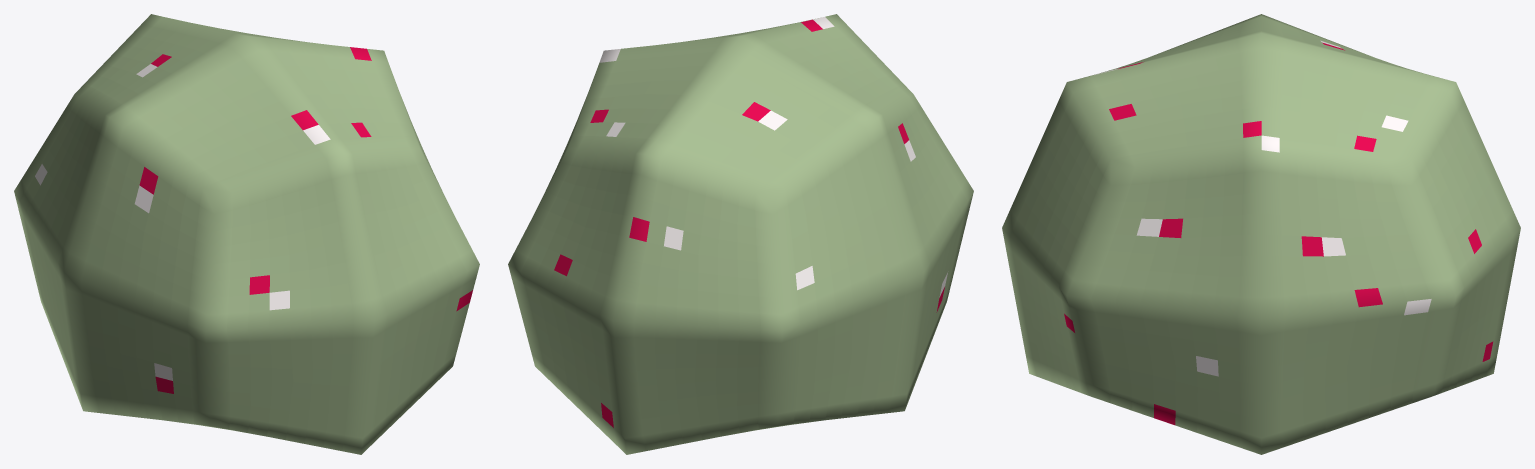
File: bush.fbx
3 views of the same model, side by side, from view 1: azimuth 30°, elevation 25°; view 2: azimuth 150°, elevation 25°; view 3: azimuth 270°, elevation 25° (orthographic).
Parts seen in each view (by area): view 1: bush; view 2: bush; view 3: bush.
Part boxes in pixels (box(x1,y1,x2,y2)): bush: box(14, 14, 479, 454); bush: box(508, 14, 973, 454); bush: box(1002, 14, 1520, 454).
Size of the model in its own units: 1.48 by 1.48 by 1.79.
